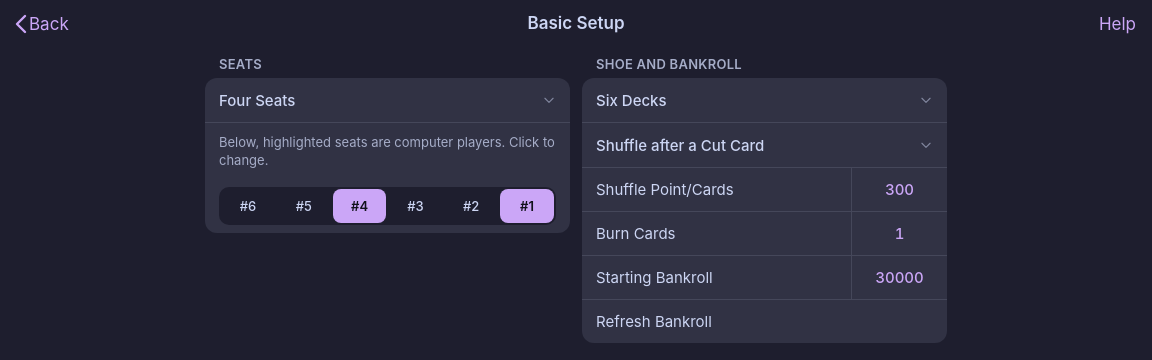
Scenario: Basic Setup › fewer decks pull the cut card back inside the shoe
Select "Double Deck" in the dropdown named "Decks" at (764, 100), box [582,78,947,122]
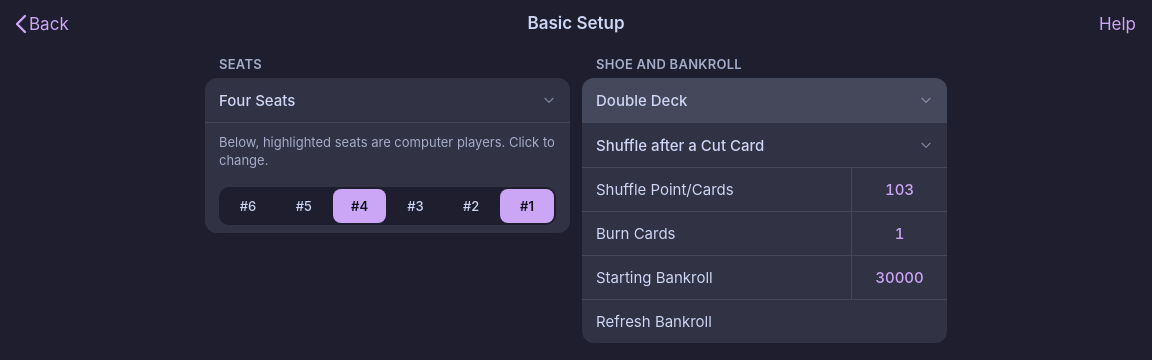
expect the button named "Shuffle Point/Cards: 103" is shown: met, box [851,168,947,211]
